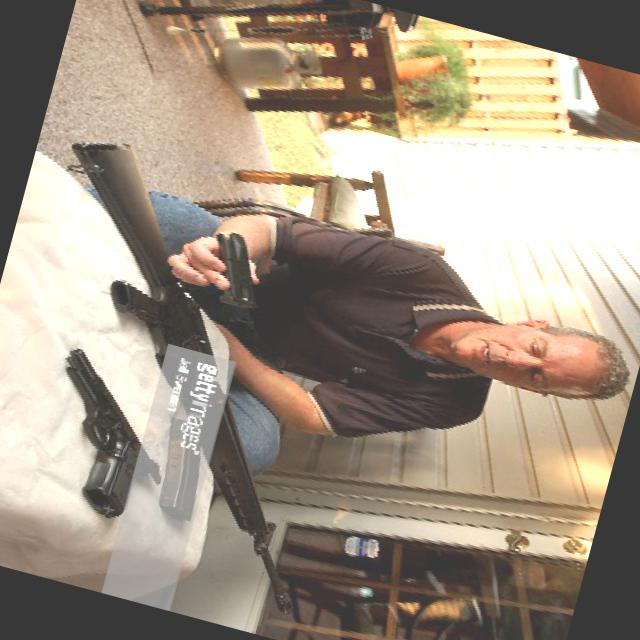handgun: (27, 332, 198, 530)
long weapon: (0, 121, 407, 627)
